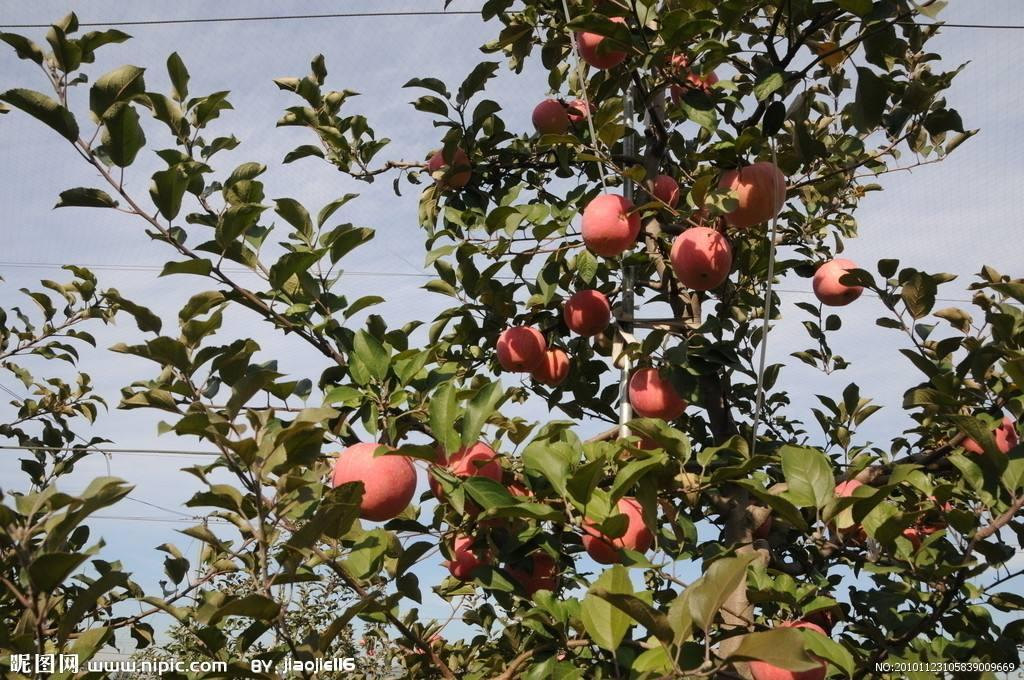apple: (330, 442, 419, 521), (583, 497, 654, 560), (670, 224, 733, 291), (581, 190, 638, 257), (723, 163, 784, 219), (628, 367, 687, 421), (497, 325, 551, 375), (814, 257, 865, 305), (564, 290, 613, 336), (531, 97, 577, 137), (651, 173, 679, 207)
